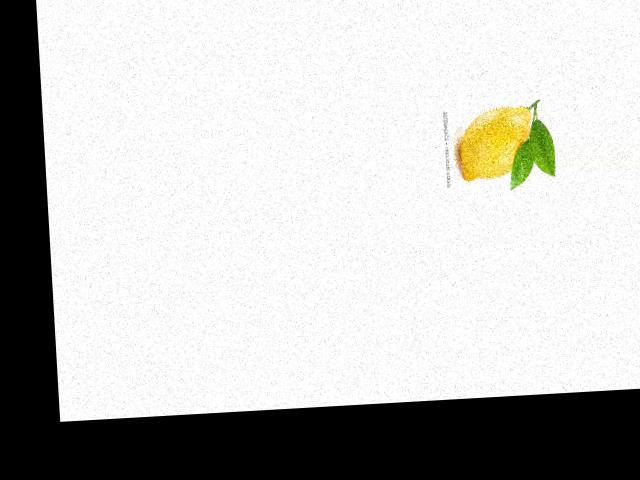lemon: (455, 100, 546, 189)
